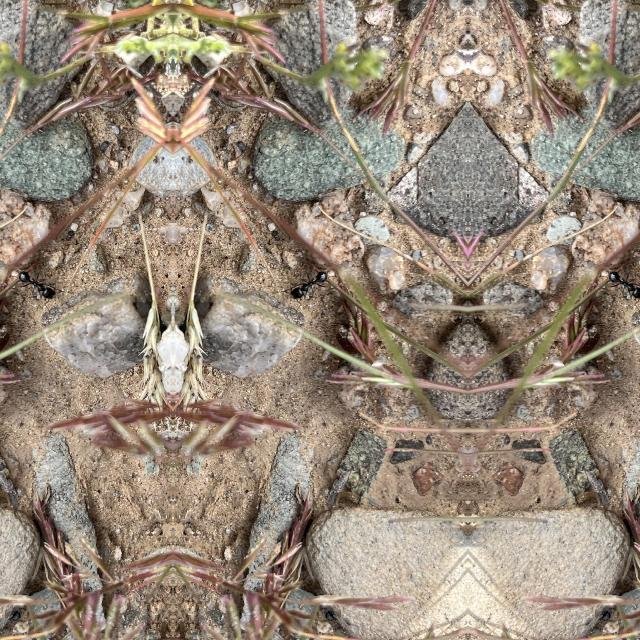Messor: (281, 262, 331, 302), (13, 262, 63, 302), (604, 261, 640, 302)
